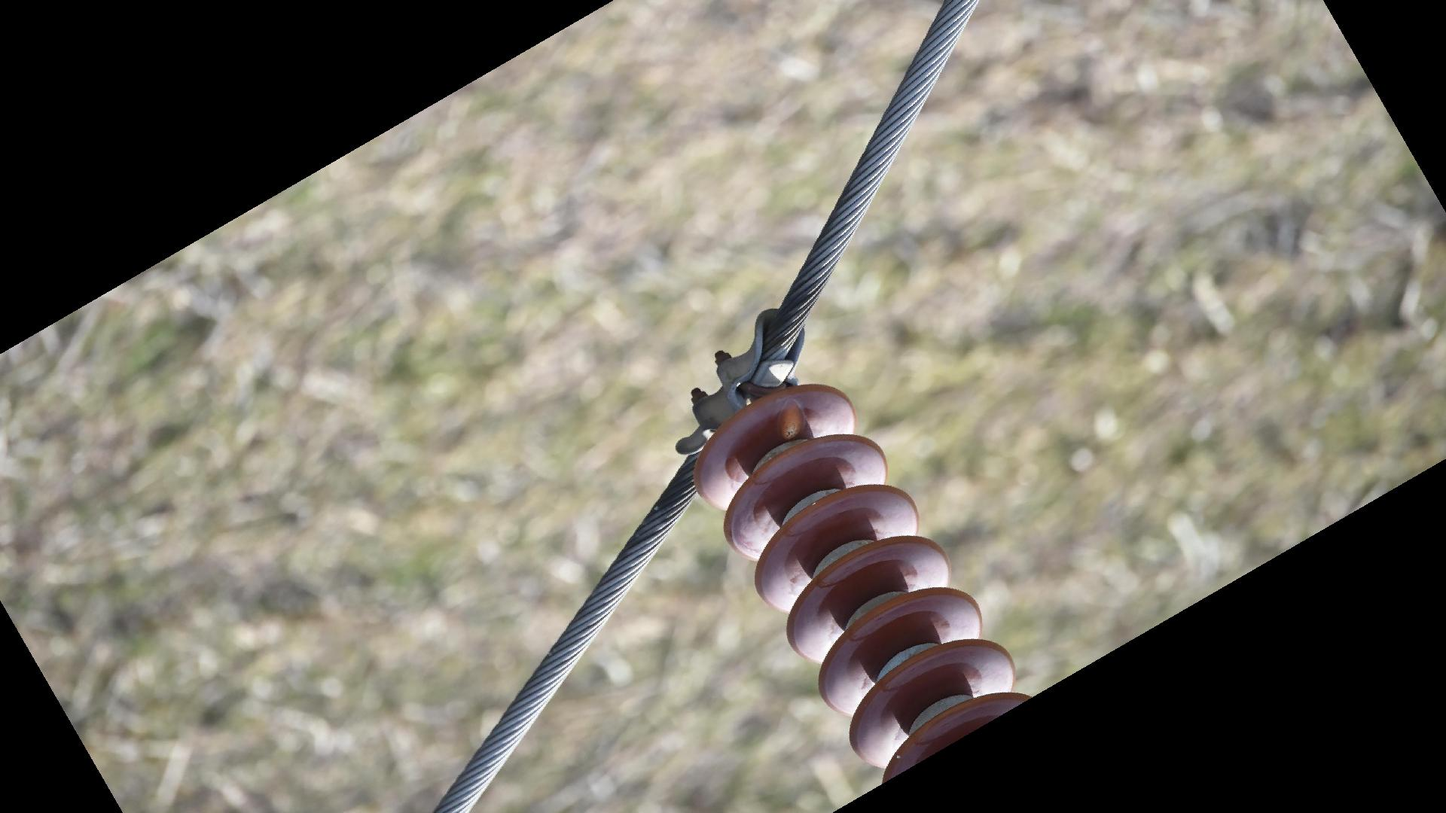insulator: (685, 379, 1045, 786)
insulator_flashover: (775, 397, 807, 443)
